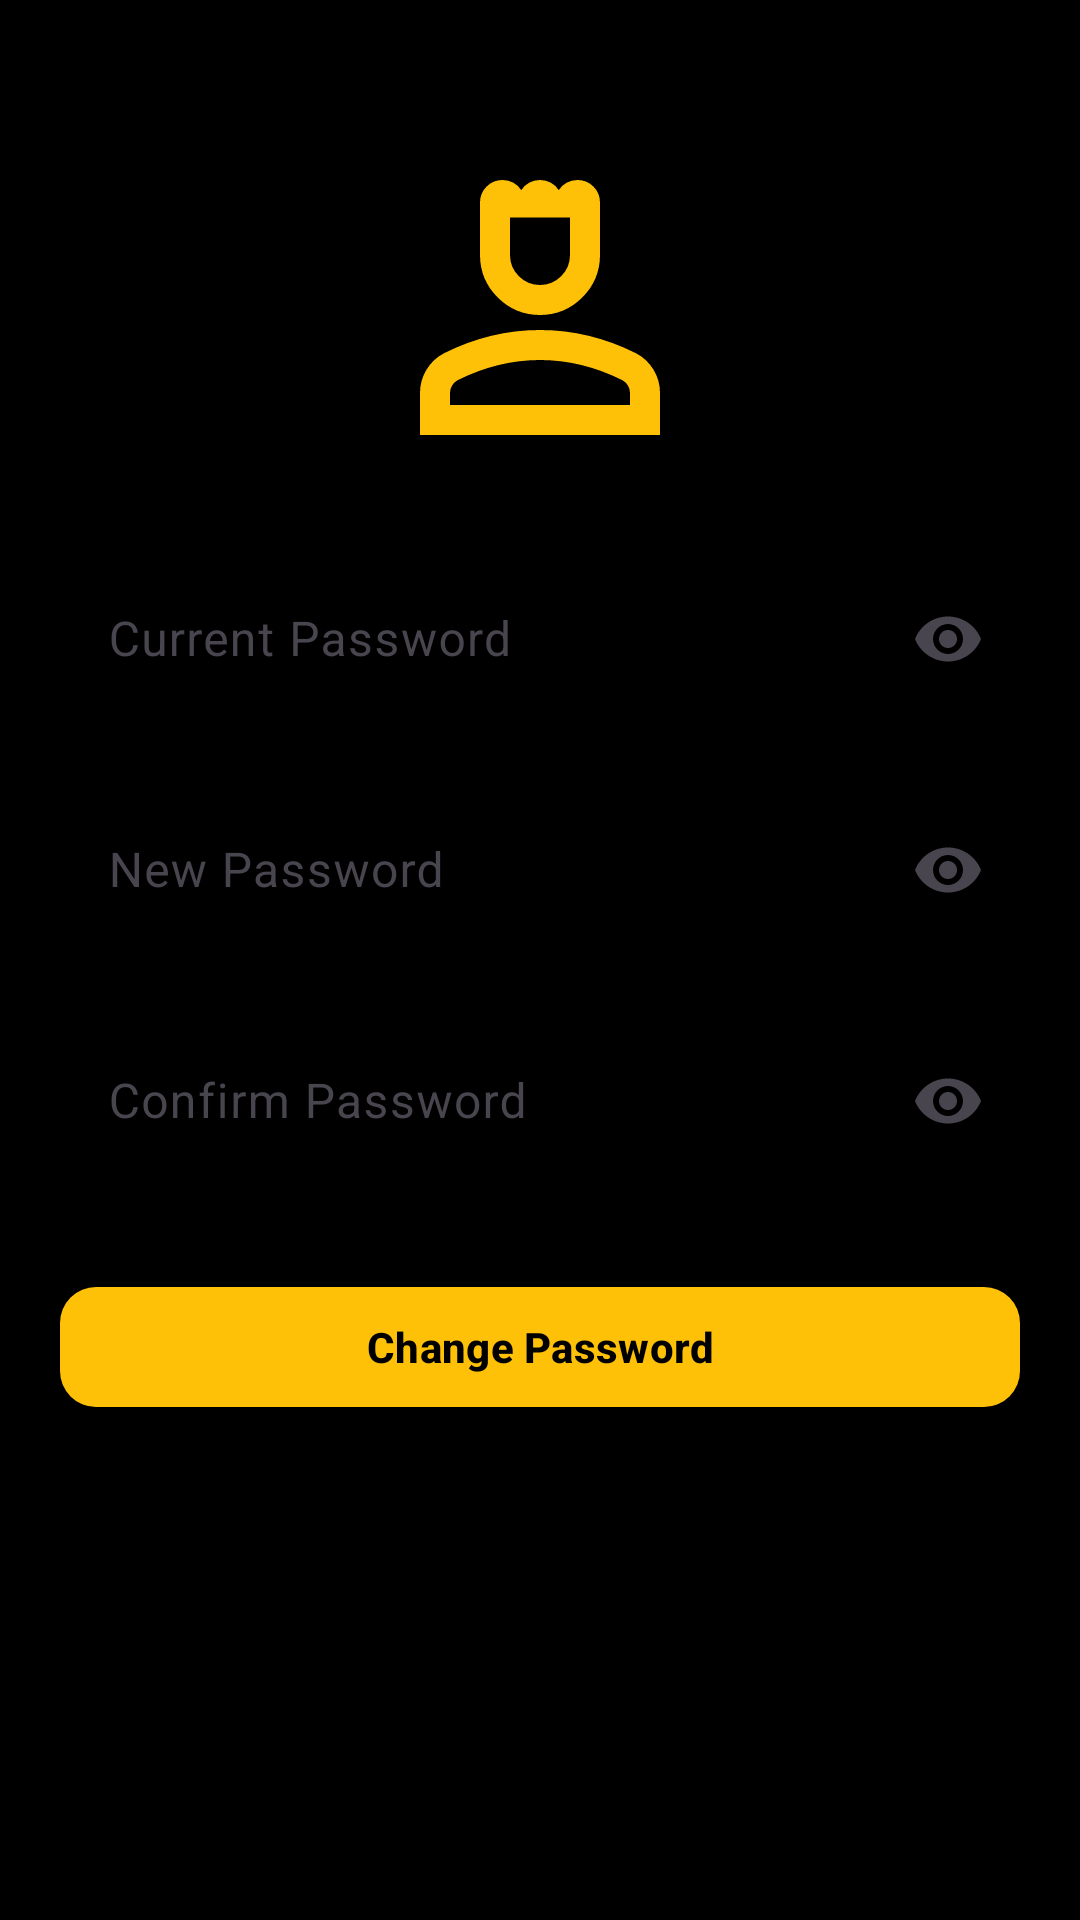

Point at icon controls on the screen. Image size 1080w x 1920h, points as [x,y].
person: [540,307]
